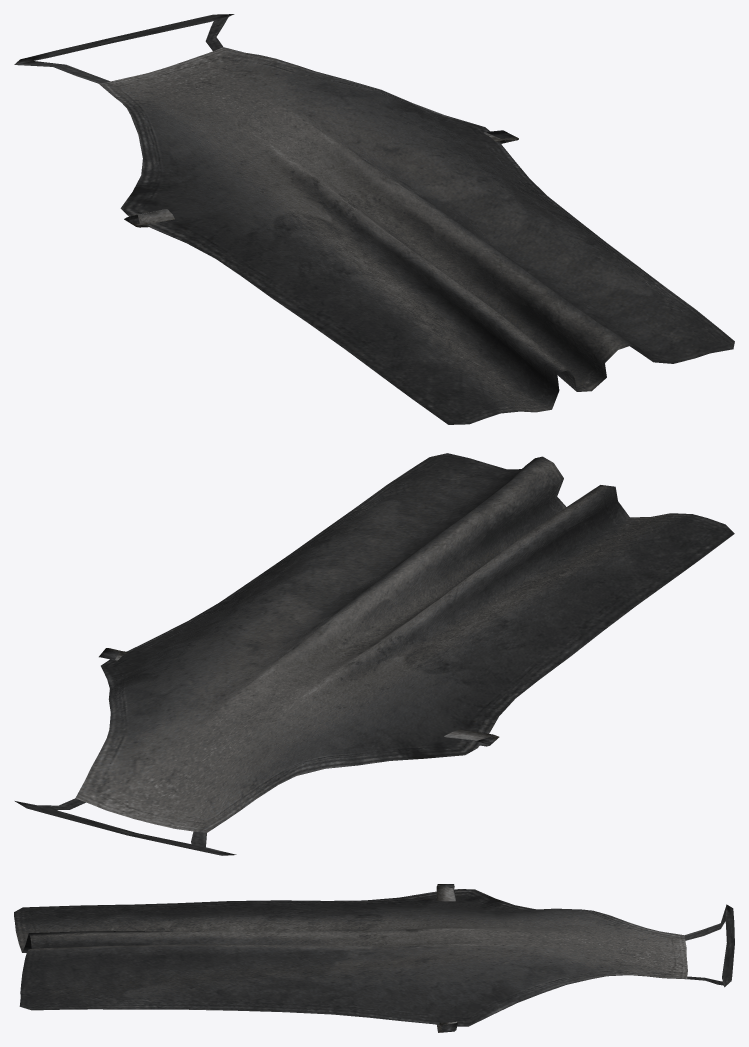
File: DentistApron_Ground.fbx
The picture shows the model from 3 angles, top to bottom: view 1: azimuth 30°, elevation 25°; view 2: azimuth 150°, elevation 25°; view 3: azimuth 270°, elevation 25°; orthographic projection. The views are drawn at different scales.
Parts seen in each view (by area): view 1: DentistApron; view 2: DentistApron; view 3: DentistApron.
Part boxes in pixels (x1,y1,x2,y2): DentistApron: [14, 14, 734, 424]; DentistApron: [15, 453, 734, 855]; DentistApron: [14, 884, 734, 1032].
Size of the model in its own units: 0.2709 by 0.0305 by 0.5744.
